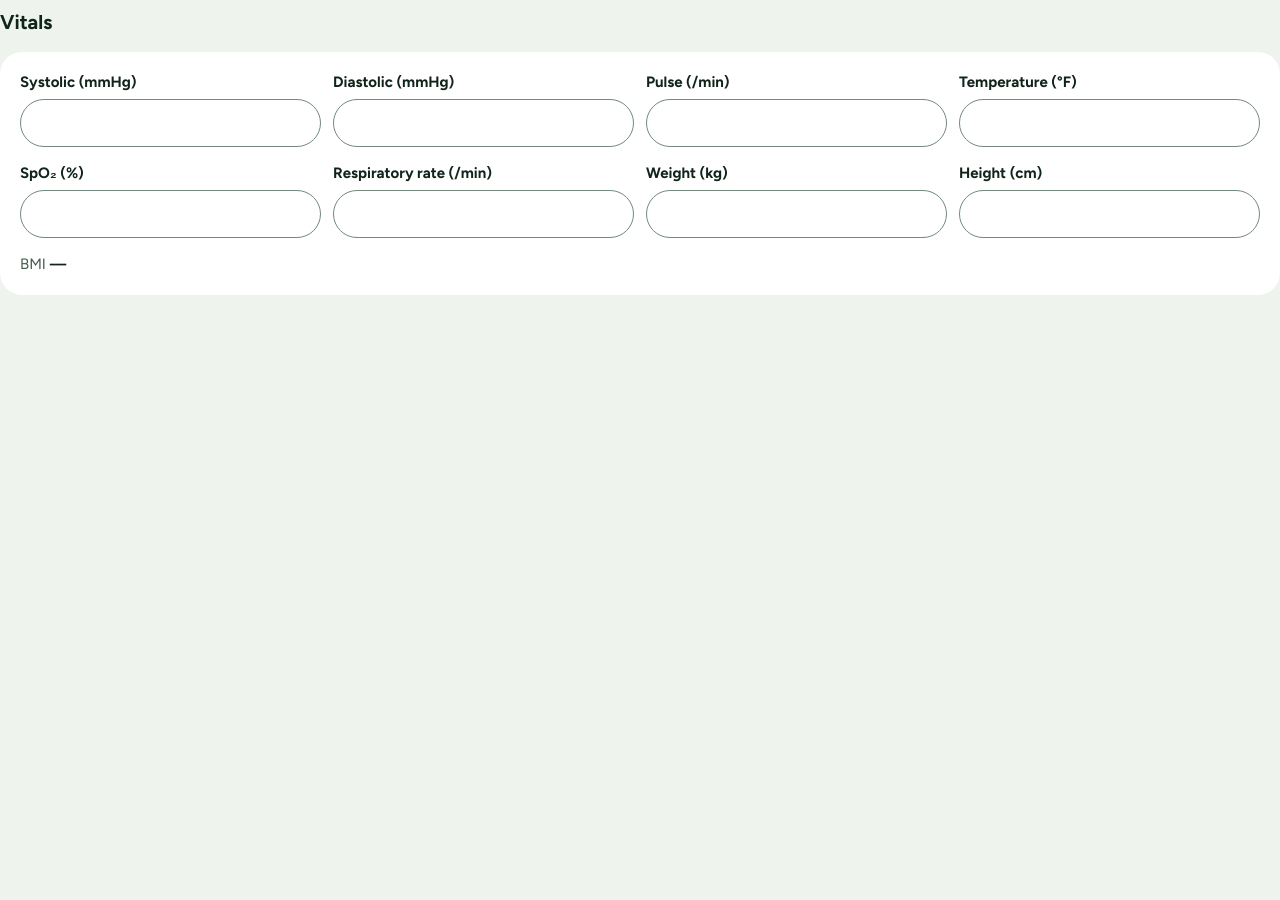
Test case: VitalsSection (plan §12.2; D202, D206) › reads the visit again when someone saved them meanwhile, and says it wasn't saved
This screenshot has width=1280, height=900.
Type "80" into the field labelled "Pulse (/min)" at (796, 123), box x1=646 y1=99 x2=947 y2=147
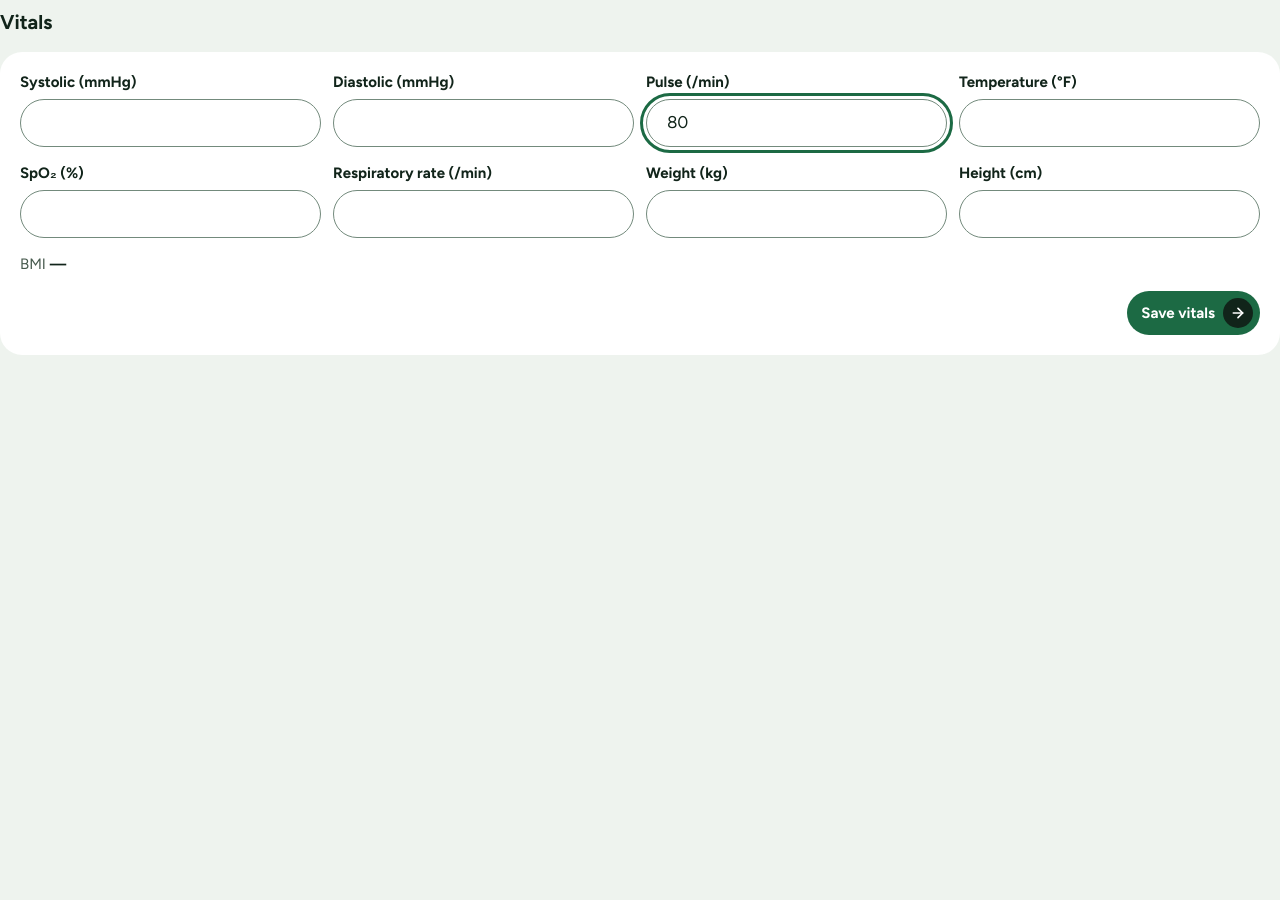
Click the button "Save vitals" at (1194, 313), box x1=1127 y1=291 x2=1260 y2=335
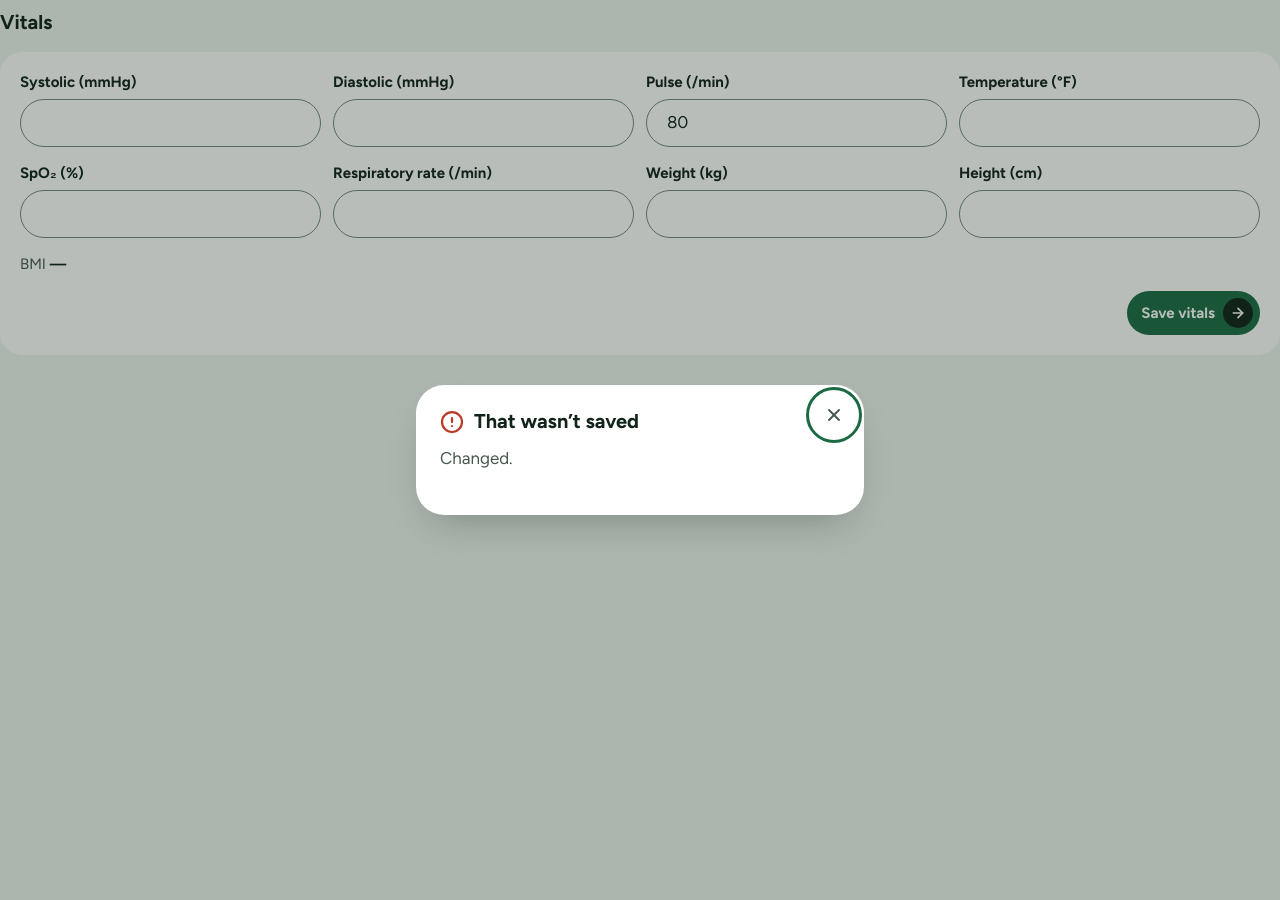
Expected: the dialog "That wasn’t saved" is shown, x1=416 y1=385 x2=864 y2=515
